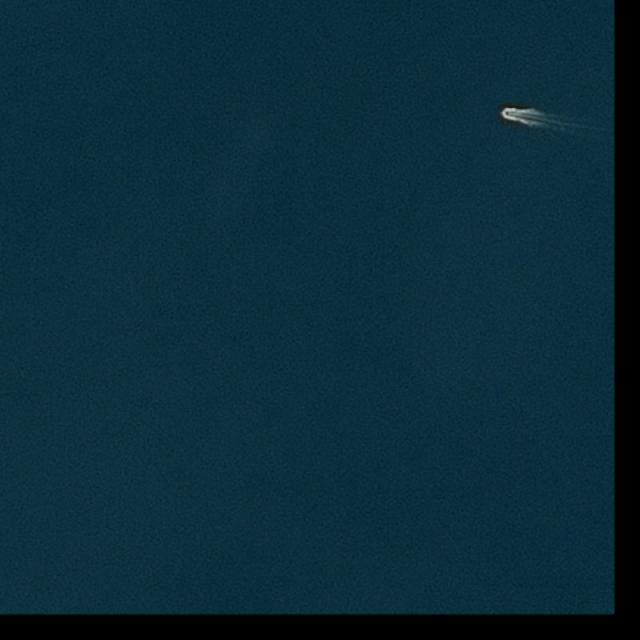ship: (502, 106, 513, 118)
